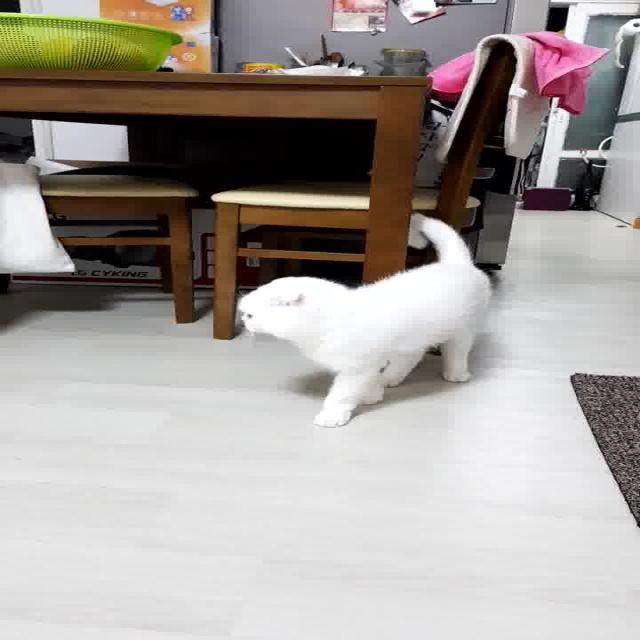cat: (217, 212, 504, 431)
